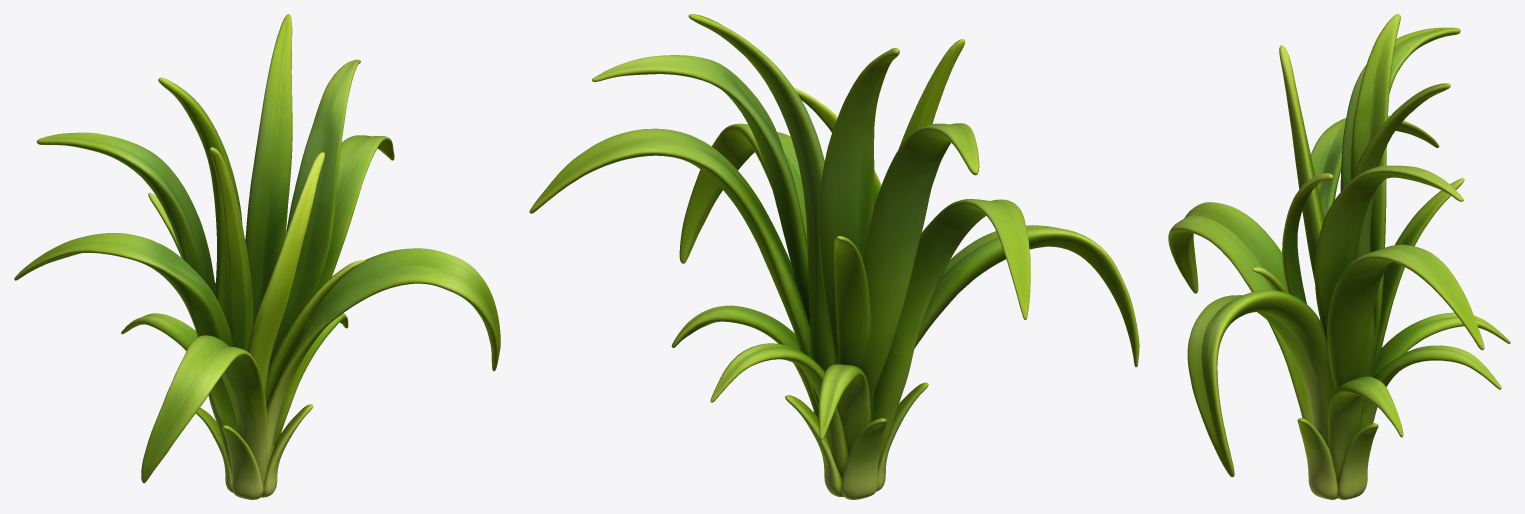
The model's file is green-plant.glb.
3 views of the same model, side by side, from view 1: azimuth 30°, elevation 25°; view 2: azimuth 150°, elevation 25°; view 3: azimuth 270°, elevation 25° (orthographic). The views are drawn at different scales.
Visible parts, largest first — view 1: tripo_node_99e04e5c-10a0-4d04-902a-6c42ff6c5bea; view 2: tripo_node_99e04e5c-10a0-4d04-902a-6c42ff6c5bea; view 3: tripo_node_99e04e5c-10a0-4d04-902a-6c42ff6c5bea.
Part boxes in pixels (left/top/right/bottom): tripo_node_99e04e5c-10a0-4d04-902a-6c42ff6c5bea: left=14, top=14, right=500, bottom=499; tripo_node_99e04e5c-10a0-4d04-902a-6c42ff6c5bea: left=529, top=14, right=1139, bottom=499; tripo_node_99e04e5c-10a0-4d04-902a-6c42ff6c5bea: left=1168, top=14, right=1510, bottom=499.
Bounding box in the file's own units: 0.995 × 1 × 0.6782.
Materials: 1 (1 with a texture image).
